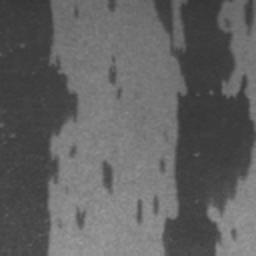Red iron sheet: (136, 0, 256, 256), (0, 0, 78, 256), (109, 64, 124, 100), (102, 160, 114, 191), (76, 204, 87, 229), (106, 0, 119, 12), (73, 4, 81, 19)
